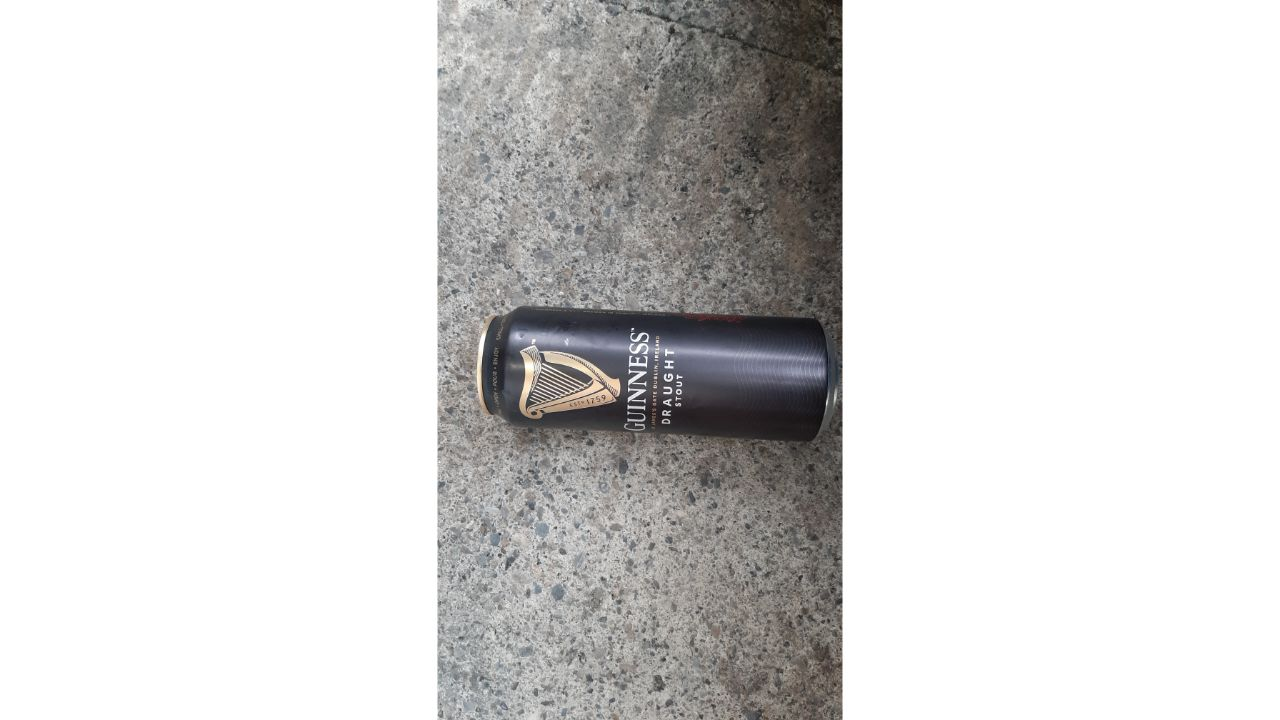Can: (462, 290, 845, 465)
